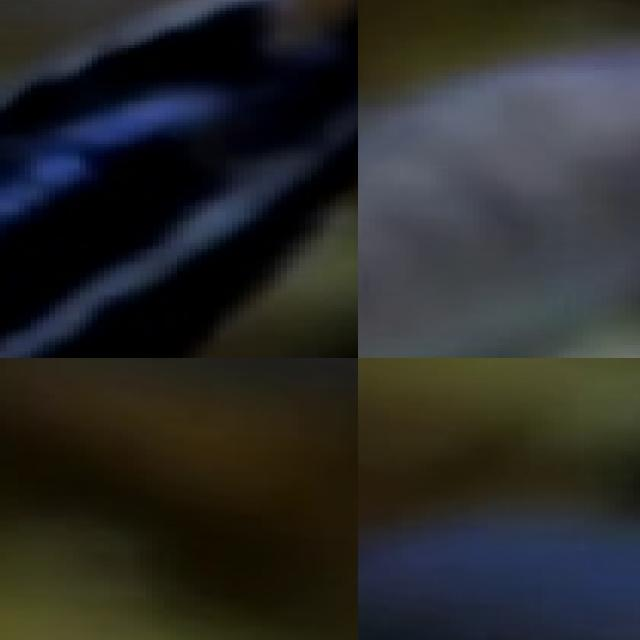fish: (0, 0, 358, 358), (358, 17, 640, 358)
